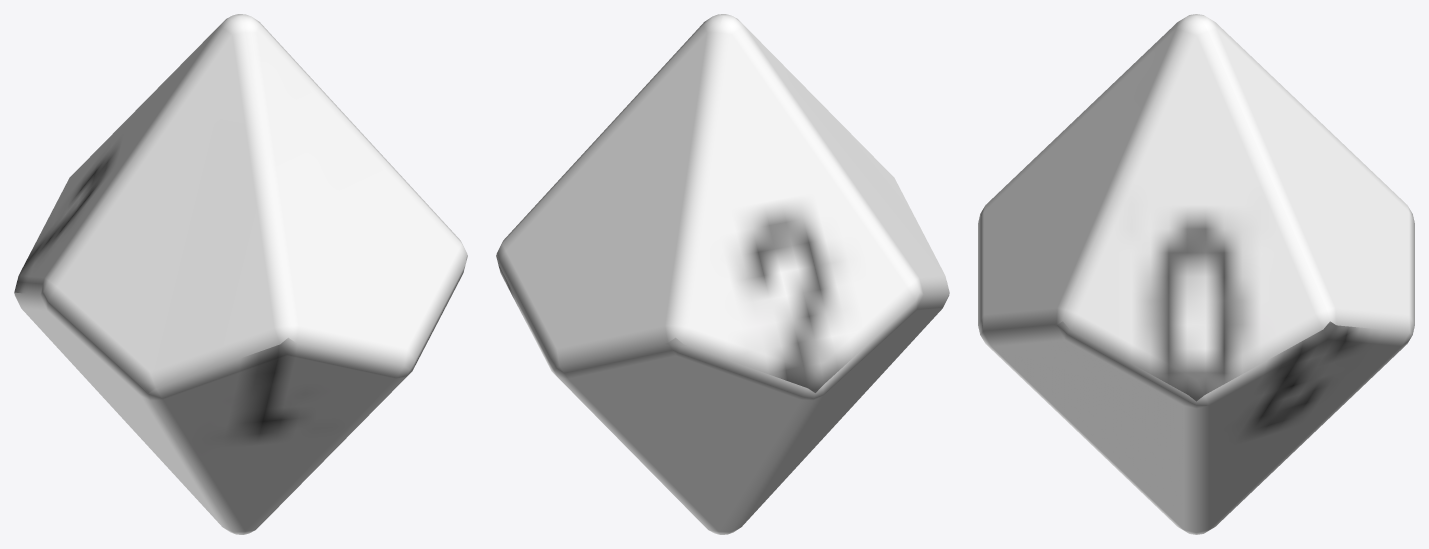
The picture shows the model from 3 angles, left to right: view 1: azimuth 30°, elevation 25°; view 2: azimuth 150°, elevation 25°; view 3: azimuth 270°, elevation 25°; orthographic projection.
Parts seen in each view (by area): view 1: Regular D10; view 2: Regular D10; view 3: Regular D10.
Part boxes in pixels (x1,y1,x2,y2): Regular D10: (14,14,467,534); Regular D10: (496,14,949,534); Regular D10: (978,14,1414,534).
Bounding box in the file's own units: 1.3 × 1.62 × 1.24.
1 material, 1 textured.
